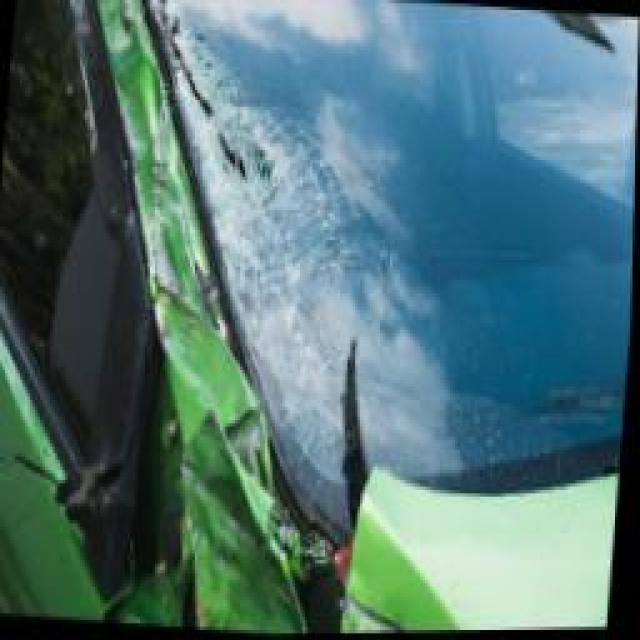Fender: (91, 0, 335, 633)
Windshield: (146, 0, 572, 562)
